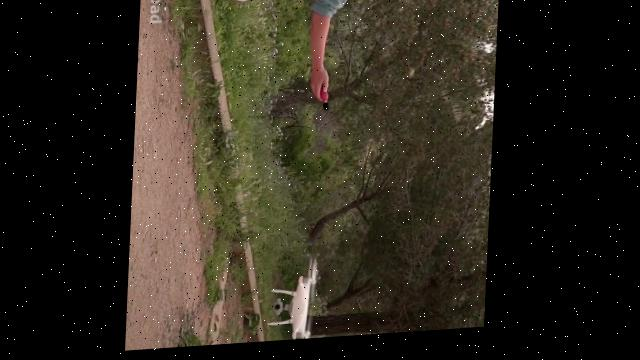drone: (268, 257, 325, 345)
